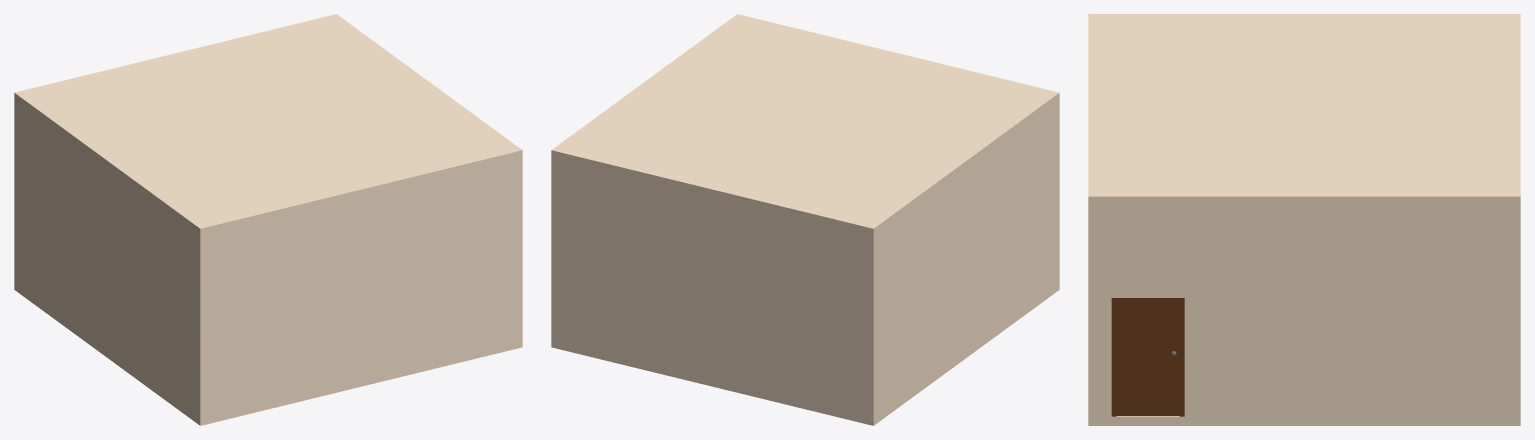
File: Sala_Pruebas_Psicosensométricas.fbx
3 renders of one model, left to right at view 1: azimuth 30°, elevation 25°; view 2: azimuth 150°, elevation 25°; view 3: azimuth 270°, elevation 25°, orthographic. The views are drawn at different scales.
Visible parts, largest first — view 1: Cube; view 2: Cube; view 3: Cube.
Boxes of the visible parts, bbox=[...] form: Cube: bbox=[14, 14, 522, 425]; Cube: bbox=[551, 14, 1059, 425]; Cube: bbox=[1088, 14, 1520, 425].
Size of the model in its own units: 2405 by 1403 by 2400.
